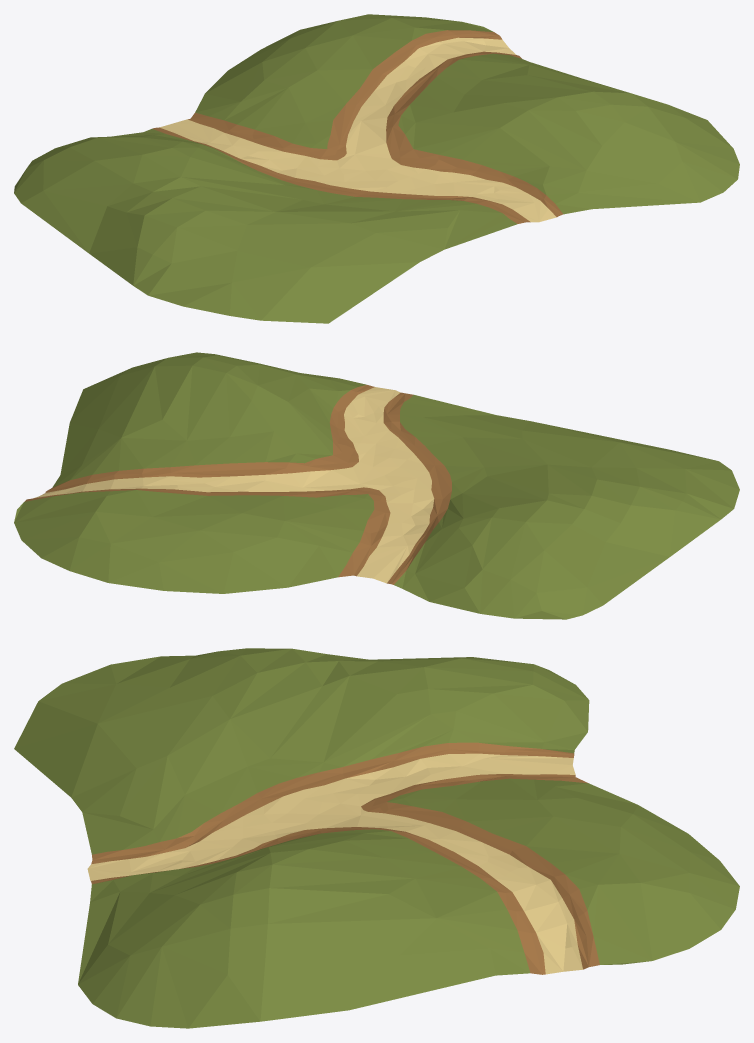
Rendered from Terrain_Road_Intersection-02.FBX.
The picture shows the model from 3 angles, top to bottom: view 1: azimuth 30°, elevation 25°; view 2: azimuth 150°, elevation 25°; view 3: azimuth 270°, elevation 25°; orthographic projection. The views are drawn at different scales.
Visible parts, largest first — view 1: Terrain_Road_Intersection-02; view 2: Terrain_Road_Intersection-02; view 3: Terrain_Road_Intersection-02.
Part boxes in pixels (x1,y1,x2,y2): Terrain_Road_Intersection-02: (14,14,739,323); Terrain_Road_Intersection-02: (14,352,739,619); Terrain_Road_Intersection-02: (14,648,739,1028).
Size of the model in its own units: 4995 by 555 by 4181.
1 material, 1 textured.
